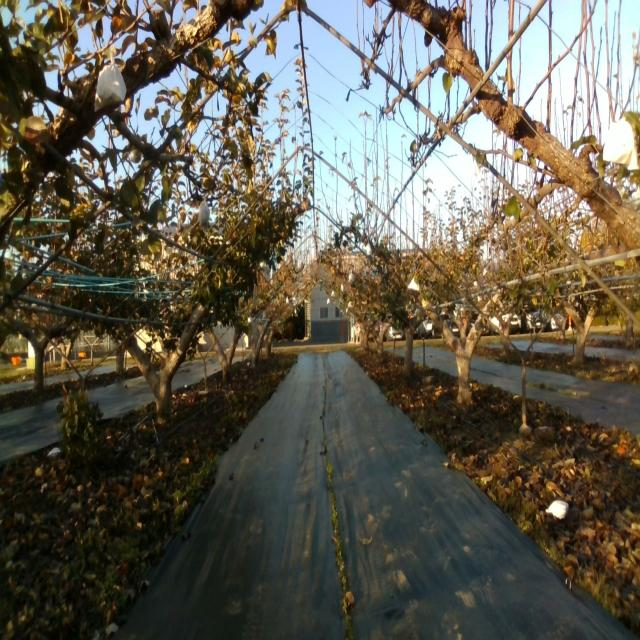pearbags: (602, 116, 640, 172), (94, 51, 128, 113), (198, 196, 211, 235)
